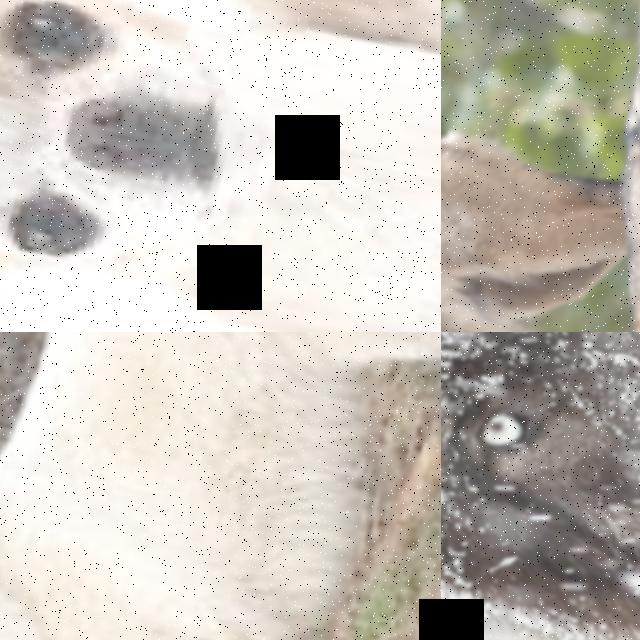dog: (0, 0, 441, 332), (0, 0, 441, 88), (0, 250, 441, 332)
wolf: (0, 332, 441, 640), (441, 0, 640, 332), (441, 332, 640, 640), (441, 72, 640, 332)
